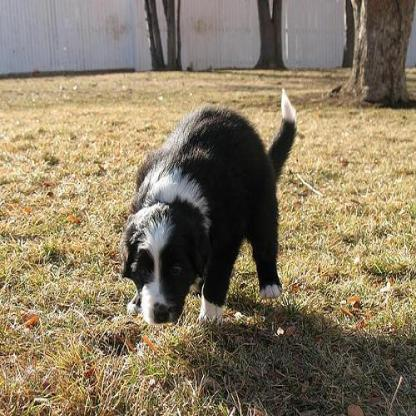collie: (117, 84, 296, 325)
